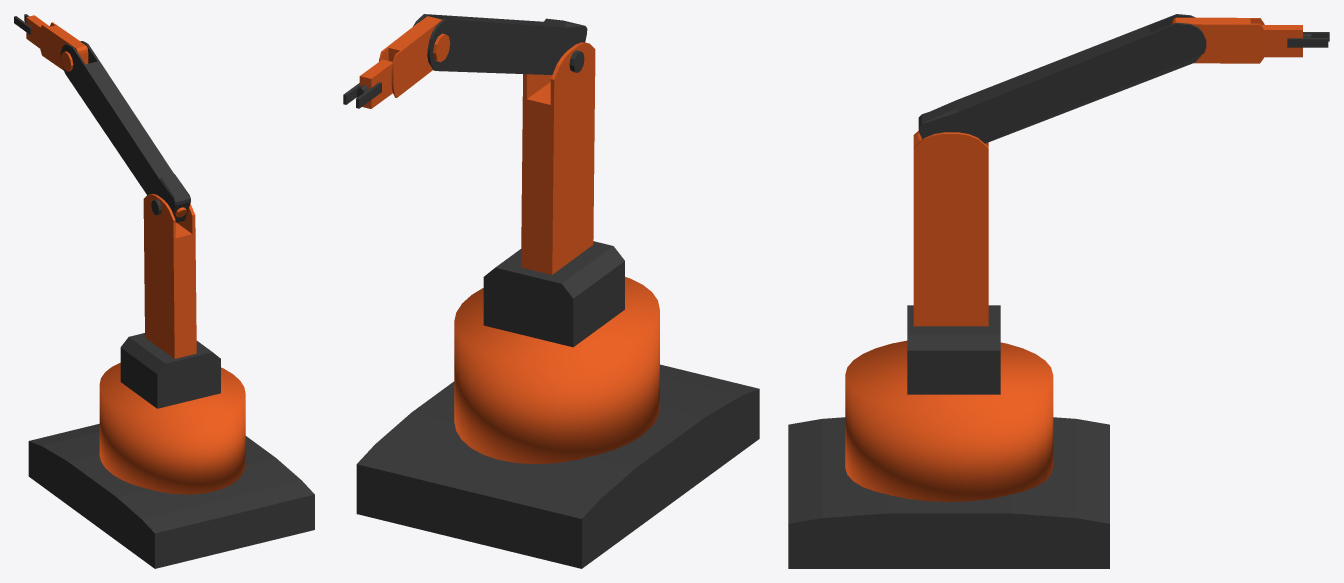
Rendered from Robotarm8-Smooth.fbx.
3 renders of one model, left to right at view 1: azimuth 30°, elevation 25°; view 2: azimuth 150°, elevation 25°; view 3: azimuth 270°, elevation 25°, orthographic. The views are drawn at different scales.
Visible parts, largest first — view 1: baseCube, Cylinder, cube2, cube2.001, Cube, cube2.002, middle1; view 2: baseCube, Cylinder, cube2, Cube, cube2.001, cube2.002, middle1; view 3: baseCube, Cylinder, cube2, cube2.001, Cube, cube2.002, middle1.
Part boxes in pixels (<box>): baseCube: <box>28,423,314,568</box>; Cylinder: <box>99,362,245,494</box>; cube2: <box>143,193,196,358</box>; cube2.001: <box>60,41,190,222</box>; Cube: <box>120,333,220,408</box>; cube2.002: <box>39,22,88,70</box>; middle1: <box>26,15,49,48</box>; baseCube: <box>356,364,759,568</box>; Cylinder: <box>454,277,659,464</box>; cube2: <box>521,42,595,274</box>; Cube: <box>483,241,624,347</box>; cube2.001: <box>413,14,587,74</box>; cube2.002: <box>379,16,442,97</box>; middle1: <box>359,59,392,108</box>; baseCube: <box>788,417,1109,568</box>; Cylinder: <box>845,340,1053,501</box>; cube2: <box>913,130,988,326</box>; cube2.001: <box>918,14,1206,143</box>; Cube: <box>907,305,1000,394</box>; cube2.002: <box>1172,17,1266,63</box>; middle1: <box>1262,25,1302,57</box>.
Size of the model in its own units: 162 by 381 by 374.
